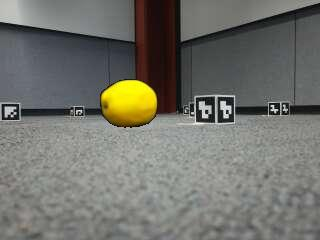lemon: (100, 80, 157, 126)
